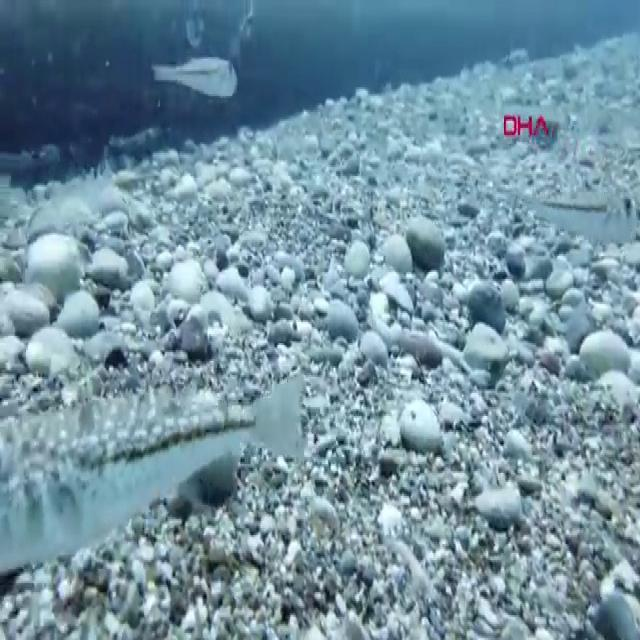Balon Baligi: (1, 373, 304, 573), (508, 189, 638, 243), (153, 58, 238, 98)
